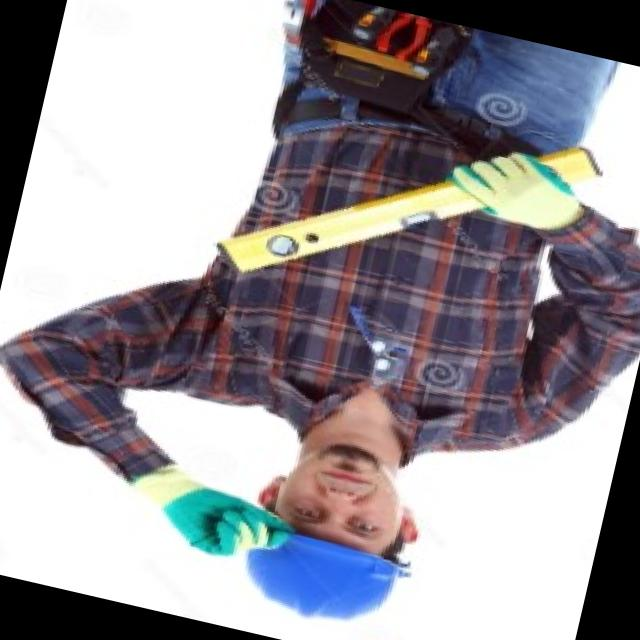gloved: (116, 456, 299, 572), (438, 136, 589, 237)
